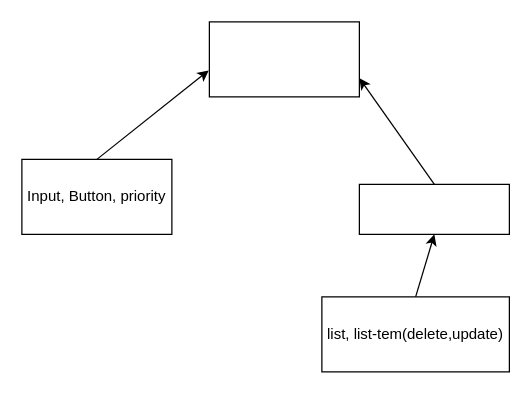
Image size: 531x394. Some labels were removed from this diagram. Here are the shapes that lost their labels. From the top down, the box of each, then its label:
(208, 21, 359, 97): App
(358, 183, 509, 234): comment sect
